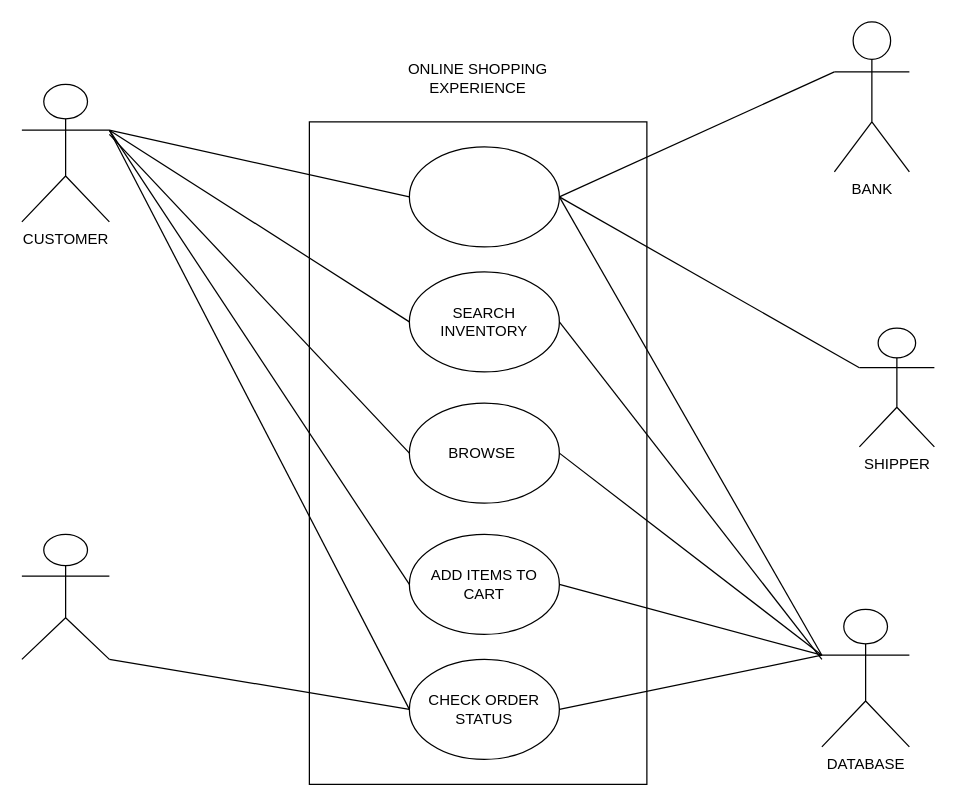
Some shapes in this 956 by 806 pixel diagram are drawn without their labels. Here are the shapes that lost their labels. From the top down, the centre of each, then its label:
At [483,196]: "CHECKOUT".
At [65,596]: "EMPLOYEE".
